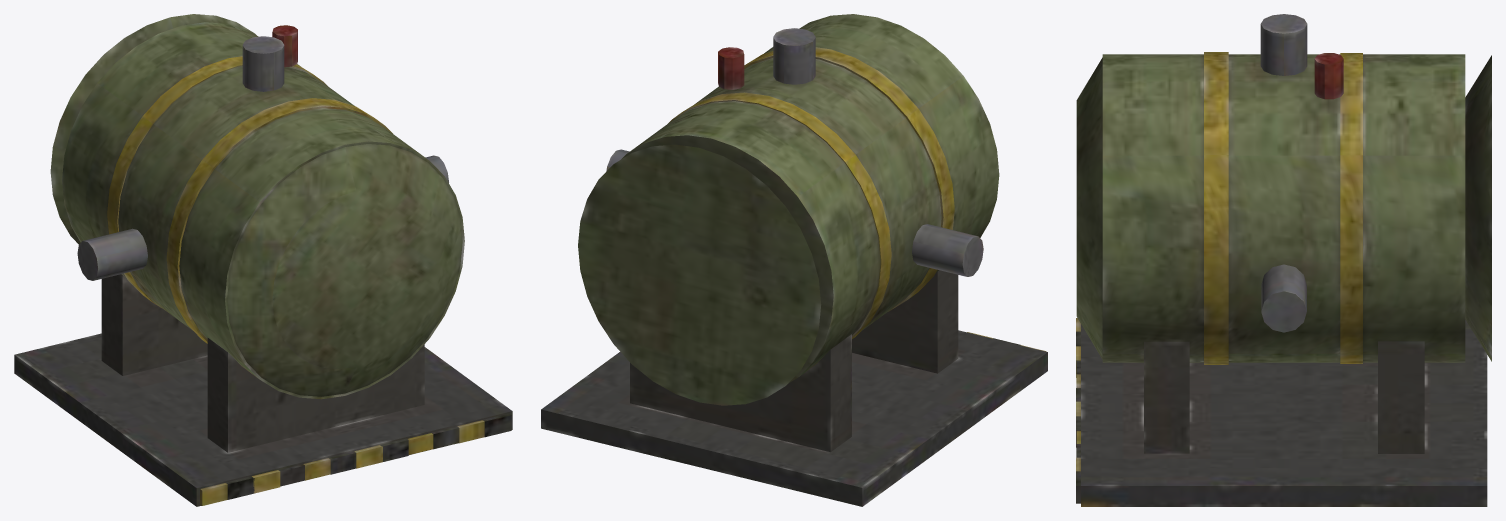
Rendered from feTankGas.glb.
The picture shows the model from 3 angles, left to right: view 1: azimuth 30°, elevation 25°; view 2: azimuth 150°, elevation 25°; view 3: azimuth 270°, elevation 25°; orthographic projection. The views are drawn at different scales.
Visible parts, largest first — view 1: feTankGas_Base; view 2: feTankGas_Base; view 3: feTankGas_Base.
Part boxes in pixels (x1=…): feTankGas_Base: x1=14, y1=14, x2=512, y2=506; feTankGas_Base: x1=541, y1=14, x2=1047, y2=506; feTankGas_Base: x1=1076, y1=14, x2=1491, y2=506.
Bounding box in the file's own units: 1 × 0.9724 × 0.9227.
1 material, 1 textured.
